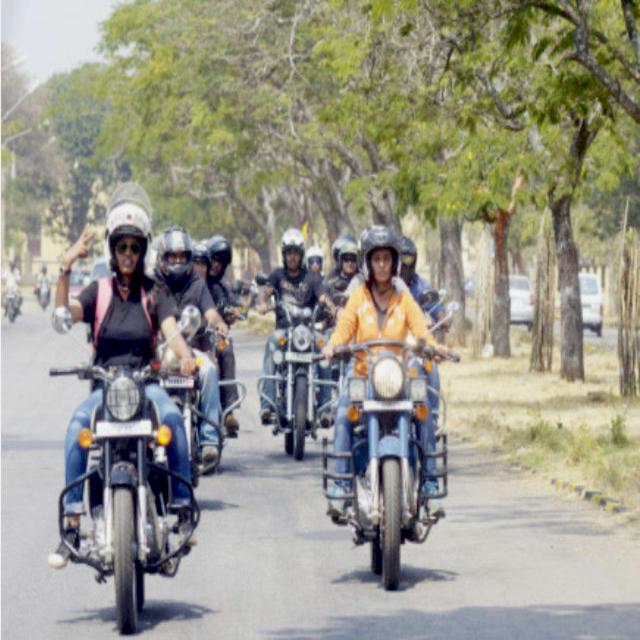helmet: (105, 183, 153, 256), (361, 225, 399, 281), (159, 225, 193, 285), (207, 235, 232, 267), (282, 228, 306, 261), (397, 235, 417, 269), (339, 235, 358, 260)
